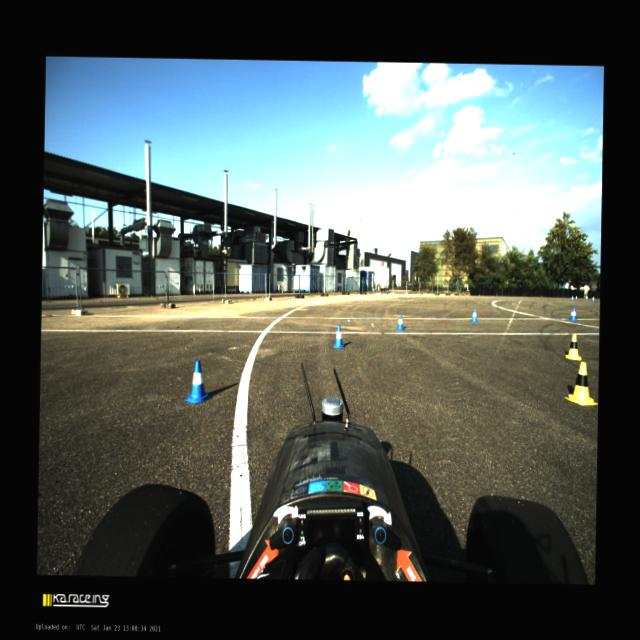blue_cone: (184, 360, 212, 404), (332, 324, 344, 348), (396, 314, 404, 330), (470, 308, 478, 322), (569, 307, 577, 320)
yellow_cone: (564, 361, 598, 405), (565, 333, 581, 360)
